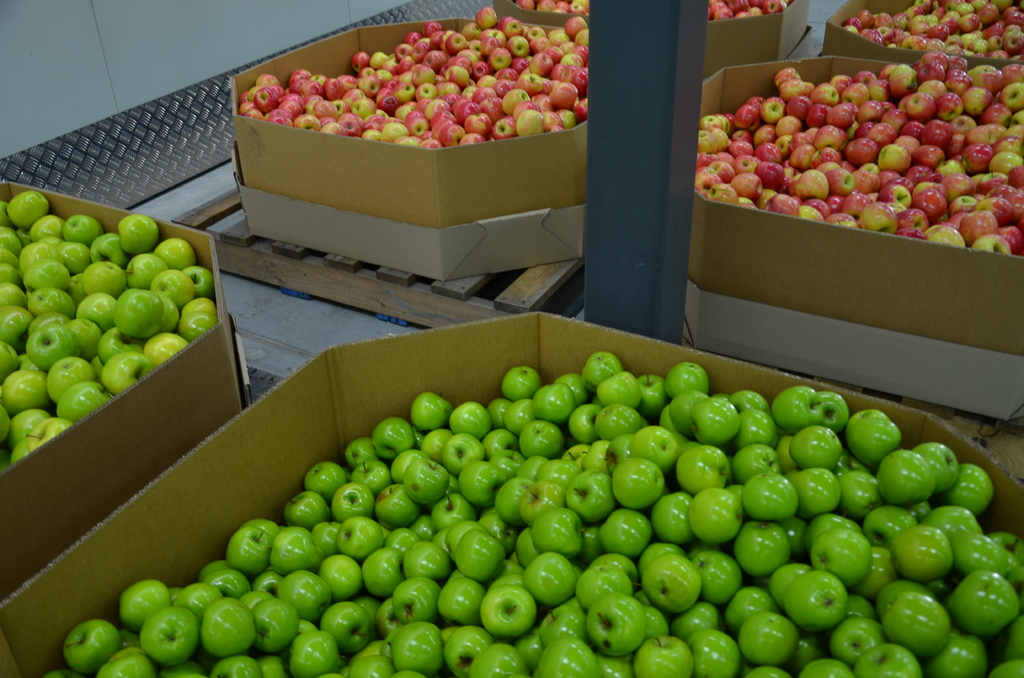Apple: (46, 347, 1023, 677), (695, 51, 1023, 257), (0, 191, 220, 476), (234, 3, 589, 145), (840, 0, 1023, 61), (710, 0, 790, 18), (515, 0, 589, 14), (860, 199, 896, 225), (708, 180, 737, 202)
